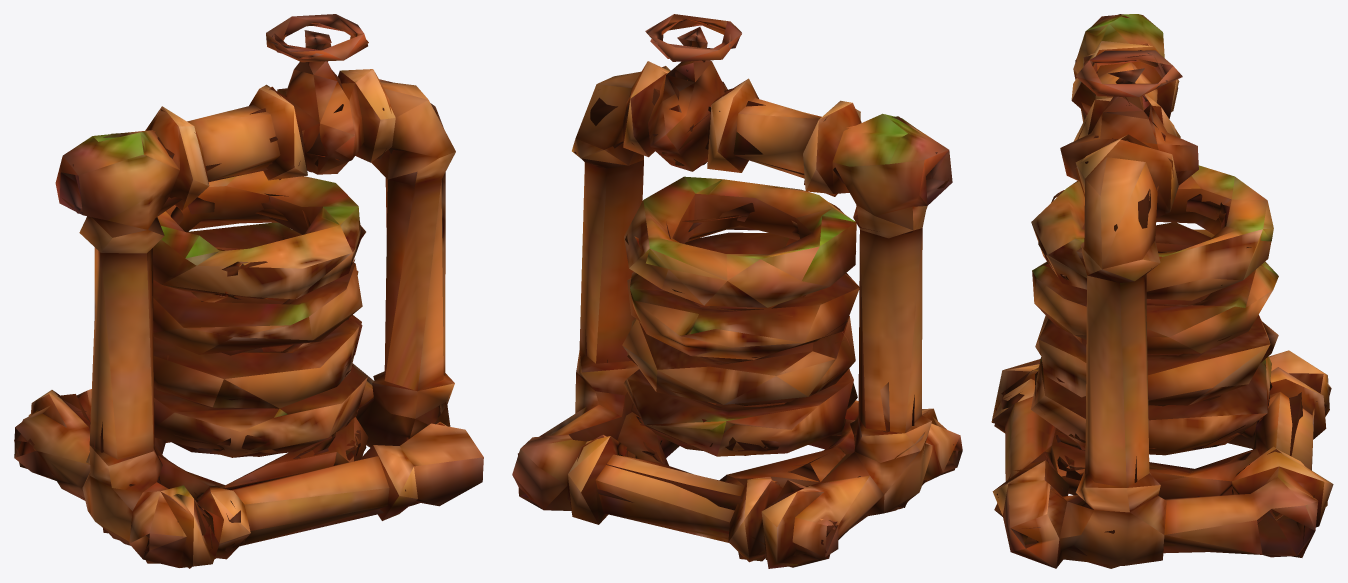
Rendered from sz-pipe-wreck.glb.
The picture shows the model from 3 angles, left to right: view 1: azimuth 30°, elevation 25°; view 2: azimuth 150°, elevation 25°; view 3: azimuth 270°, elevation 25°; orthographic projection. The views are drawn at different scales.
Parts seen in each view (by area): view 1: geometry_0; view 2: geometry_0; view 3: geometry_0.
Part boxes in pixels (x1,y1,x2,y2): geometry_0: (14, 14, 483, 568); geometry_0: (512, 14, 962, 568); geometry_0: (991, 14, 1333, 568).
Size of the model in its own units: 0.8593 by 1 by 0.6705.
Materials: 1 (1 with a texture image).
